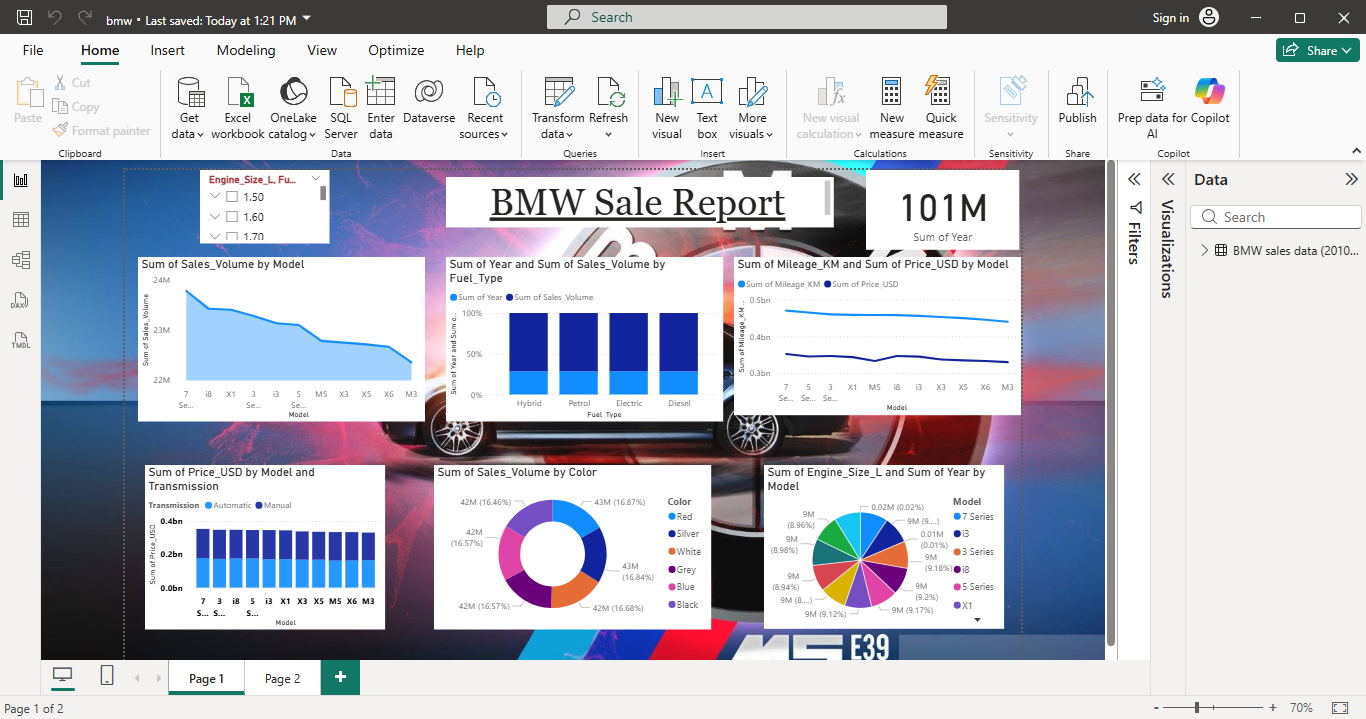

The page's visual inventory and layout, read from the dashboard file:
{"tool":"powerbi","page":{"name":"Page 1","canvas":[1280,720],"ordinal":0},"visuals":[{"type":"lineStackedColumnComboChart","fields":{"Category":["BMW sales data (2010-2024) (1).Model"],"Series":["BMW sales data (2010-2024) (1).Transmission"],"Y":["Sum(BMW sales data (2010-2024) (1).Price_USD)"]},"box":[28.3,421.5,343.1,235.2],"z":0},{"type":"pieChart","fields":{"Category":["BMW sales data (2010-2024) (1).Model"],"Y":["Sum(BMW sales data (2010-2024) (1).Engine_Size_L)","Sum(BMW sales data (2010-2024) (1).Year)"]},"box":[912.4,421.5,343.1,233.9],"z":1000},{"type":"stackedAreaChart","fields":{"Category":["BMW sales data (2010-2024) (1).Model"],"Y":["Sum(BMW sales data (2010-2024) (1).Sales_Volume)"]},"box":[18.5,124.6,409.6,235.4],"z":2000},{"type":"lineChart","fields":{"Category":["BMW sales data (2010-2024) (1).Model"],"Y":["Sum(BMW sales data (2010-2024) (1).Mileage_KM)","Sum(BMW sales data (2010-2024) (1).Price_USD)"]},"box":[870,124.6,409.6,226.2],"z":3000},{"type":"textbox","box":[459.2,10.4,553.8,71.5],"z":4000},{"type":"donutChart","fields":{"Category":["BMW sales data (2010-2024) (1).Color"],"Y":["Sum(BMW sales data (2010-2024) (1).Sales_Volume)"]},"box":[442.1,421.5,395.8,235.2],"z":5000},{"type":"hundredPercentStackedColumnChart","fields":{"Category":["BMW sales data (2010-2024) (1).Fuel_Type"],"Y":["Sum(BMW sales data (2010-2024) (1).Year)","Sum(BMW sales data (2010-2024) (1).Sales_Volume)"]},"box":[459.2,124.6,395.8,235.4],"z":6000},{"type":"slicer","fields":{"Values":["BMW sales data (2010-2024) (1).Engine_Size_L","BMW sales data (2010-2024) (1).Fuel_Type","BMW sales data (2010-2024) (1).Mileage_KM"]},"box":[107.3,0,184.6,105],"z":7000},{"type":"card","fields":{"Values":["Sum(BMW sales data (2010-2024) (1).Year)"]},"box":[1059.2,0,219.2,114.2],"z":8000}]}

Visuals, with their boxes on the page's 1280x720 design canvas (x1, y1, x2, y2). These are canvas units, not pixel positions in the 1366x719 screenshot, which may show the page scaled, cropped or inside an application window:
lineStackedColumnComboChart - BMW sales data (2010-2024) (1).Model x BMW sales data (2010-2024) (1).Transmission: (28,422,371,657)
pieChart - BMW sales data (2010-2024) (1).Model x Sum(BMW sales data (2010-2024) (1).Engine_Size_L): (912,422,1256,655)
stackedAreaChart - BMW sales data (2010-2024) (1).Model x Sum(BMW sales data (2010-2024) (1).Sales_Volume): (18,125,428,360)
lineChart - BMW sales data (2010-2024) (1).Model x Sum(BMW sales data (2010-2024) (1).Mileage_KM): (870,125,1280,351)
textbox: (459,10,1013,82)
donutChart - BMW sales data (2010-2024) (1).Color x Sum(BMW sales data (2010-2024) (1).Sales_Volume): (442,422,838,657)
hundredPercentStackedColumnChart - BMW sales data (2010-2024) (1).Fuel_Type x Sum(BMW sales data (2010-2024) (1).Year): (459,125,855,360)
slicer - BMW sales data (2010-2024) (1).Engine_Size_L x BMW sales data (2010-2024) (1).Fuel_Type: (107,0,292,105)
card - Sum(BMW sales data (2010-2024) (1).Year): (1059,0,1278,114)
